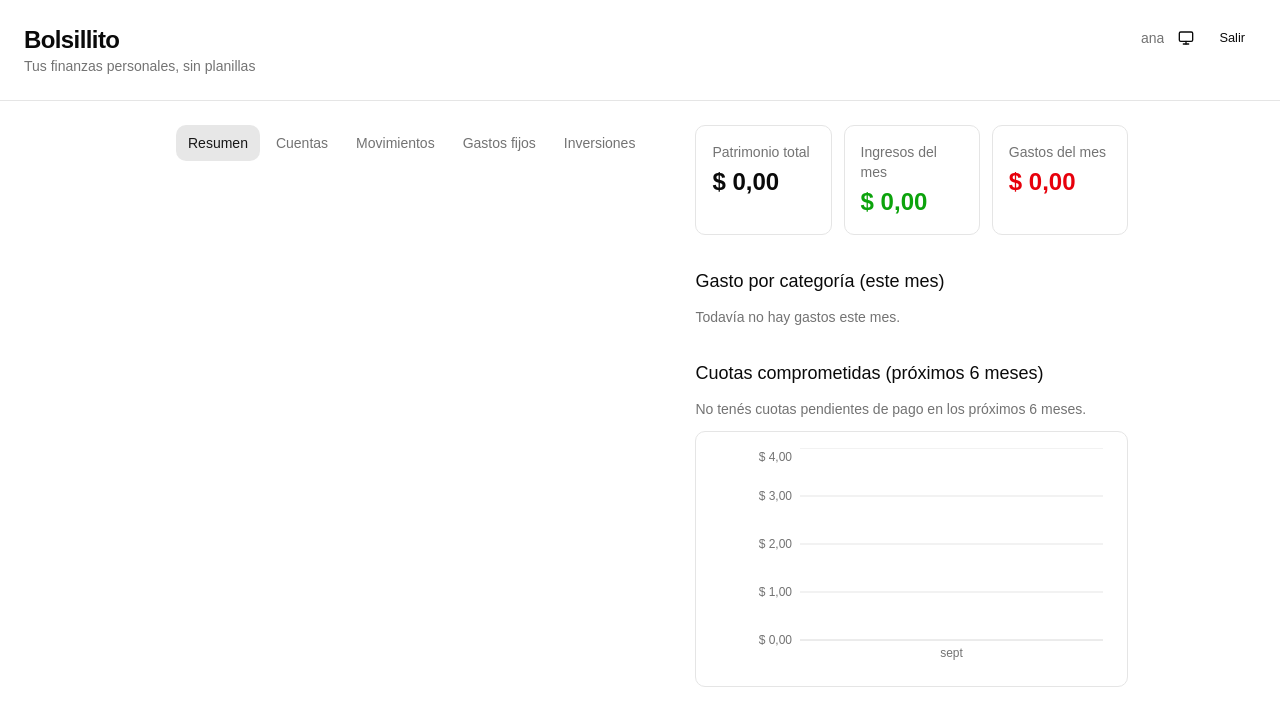
App routing › logs out and shows the login page when "Salir" is clicked
Expected: the text "Patrimonio total" is shown, [712,142,815,162]
Click the button "Salir" at (1232, 38), box [1208,24,1256,52]
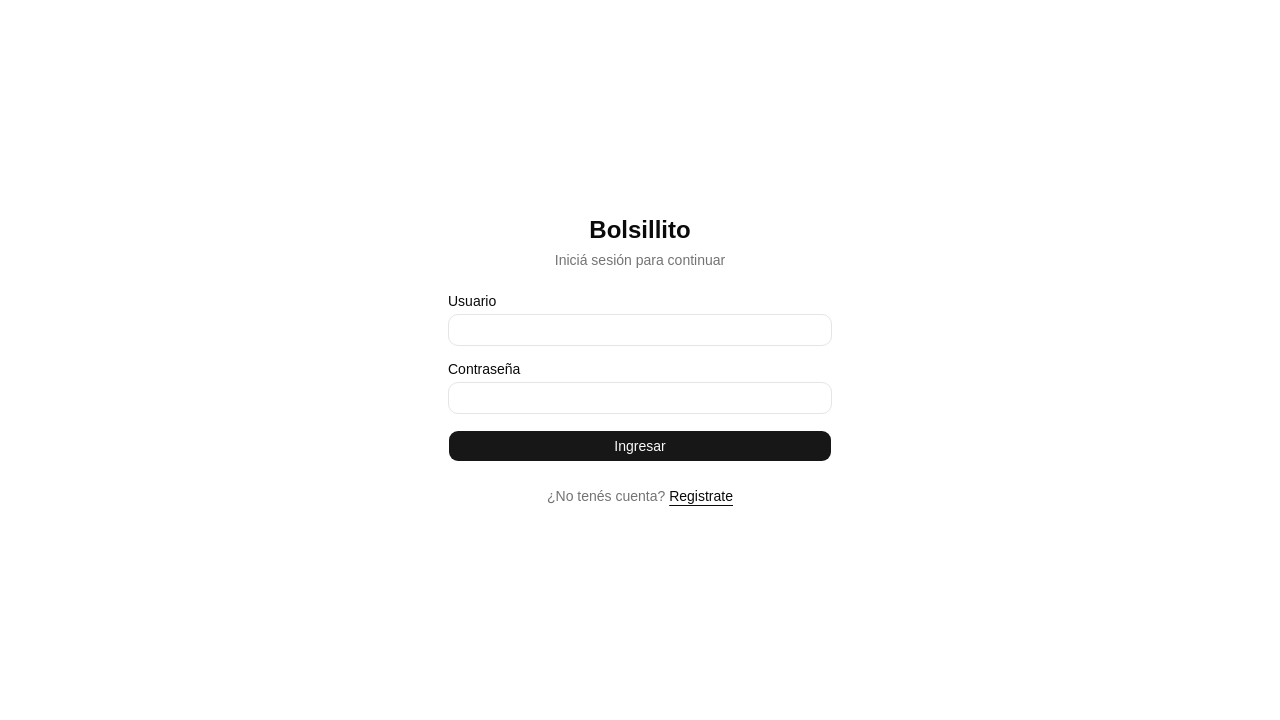
Now the text "Iniciá sesión para continuar" is shown, box [555,252,725,268]
